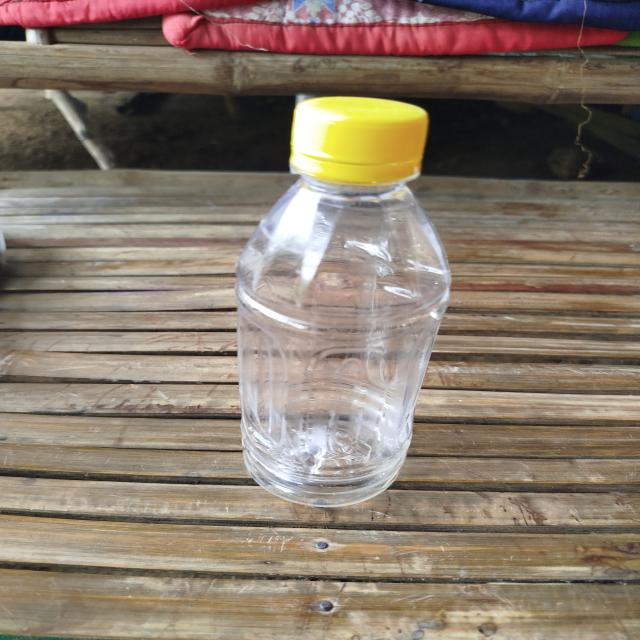plastic: (220, 80, 468, 522)
